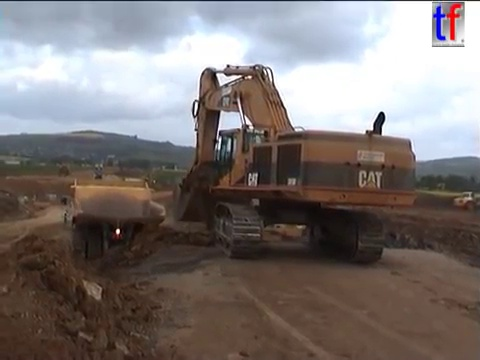excavator: (174, 62, 419, 265)
truck: (60, 176, 168, 263), (260, 192, 348, 256), (452, 190, 480, 212), (56, 163, 70, 177)
worker: (61, 207, 70, 226)
